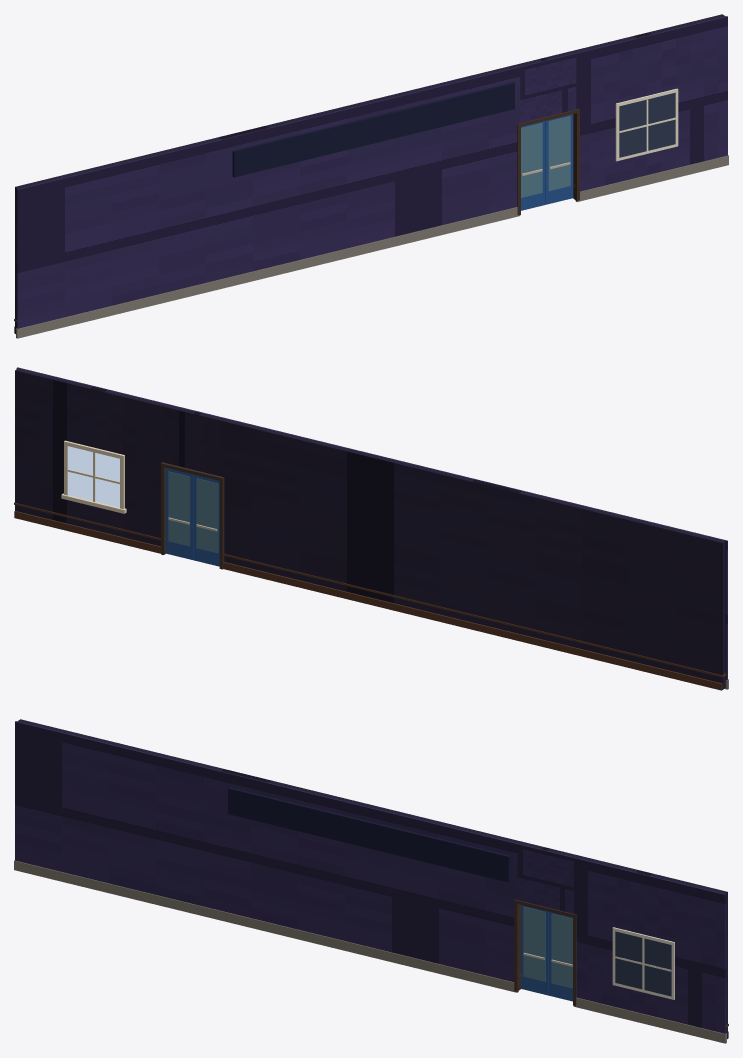
Rendered from front.glb.
3 views of the same model, one above another, from view 1: azimuth 30°, elevation 25°; view 2: azimuth 150°, elevation 25°; view 3: azimuth 330°, elevation 25° (orthographic).
Visible parts, largest first — view 1: Box6, Box8, Box22, Box7, Box10, Box24, Box1, Box19, Box9, Box15, Box18, Box23 (+3 smaller); view 2: Box1, Box3, Box2, Box5, Box31, Box34, Box19, Box15, Box35, Box4, Box6, Box18 (+3 smaller); view 3: Box6, Box8, Box22, Box7, Box10, Box24, Box1, Box15, Box9, Box19, Box14, Box23 (+3 smaller).
Part boxes in pixels (x1,y1,x2,y2): Box6: (16, 67, 520, 328); Box8: (575, 16, 727, 201); Box22: (232, 82, 514, 177); Box7: (16, 207, 520, 338); Box10: (519, 53, 576, 122); Box24: (619, 92, 675, 157); Box1: (15, 64, 518, 333); Box19: (548, 116, 570, 190); Box9: (576, 155, 728, 201); Box15: (521, 123, 542, 197); Box18: (545, 114, 573, 204); Box23: (615, 88, 678, 161); Box1: (221, 418, 725, 689); Box3: (15, 368, 167, 546); Box2: (223, 562, 722, 690); Box5: (165, 405, 223, 476); Box31: (68, 446, 119, 507); Box34: (224, 557, 725, 688); Box19: (168, 471, 190, 546); Box15: (196, 478, 218, 553); Box35: (223, 554, 726, 677); Box4: (14, 511, 160, 553); Box6: (225, 418, 727, 679); Box18: (165, 468, 193, 559); Box6: (15, 721, 518, 991); Box8: (574, 857, 726, 1033); Box22: (228, 787, 510, 882); Box7: (14, 860, 517, 992); Box10: (517, 843, 574, 913); Box24: (615, 931, 671, 996); Box1: (17, 719, 521, 843); Box15: (523, 906, 545, 981); Box9: (573, 997, 726, 1043); Box19: (551, 913, 572, 988); Box14: (521, 905, 548, 995); Box23: (612, 927, 674, 999).
Bounding box in the file's own units: 20.27 × 4.04 × 0.385.
Materials: 13 (2 with a texture image).
